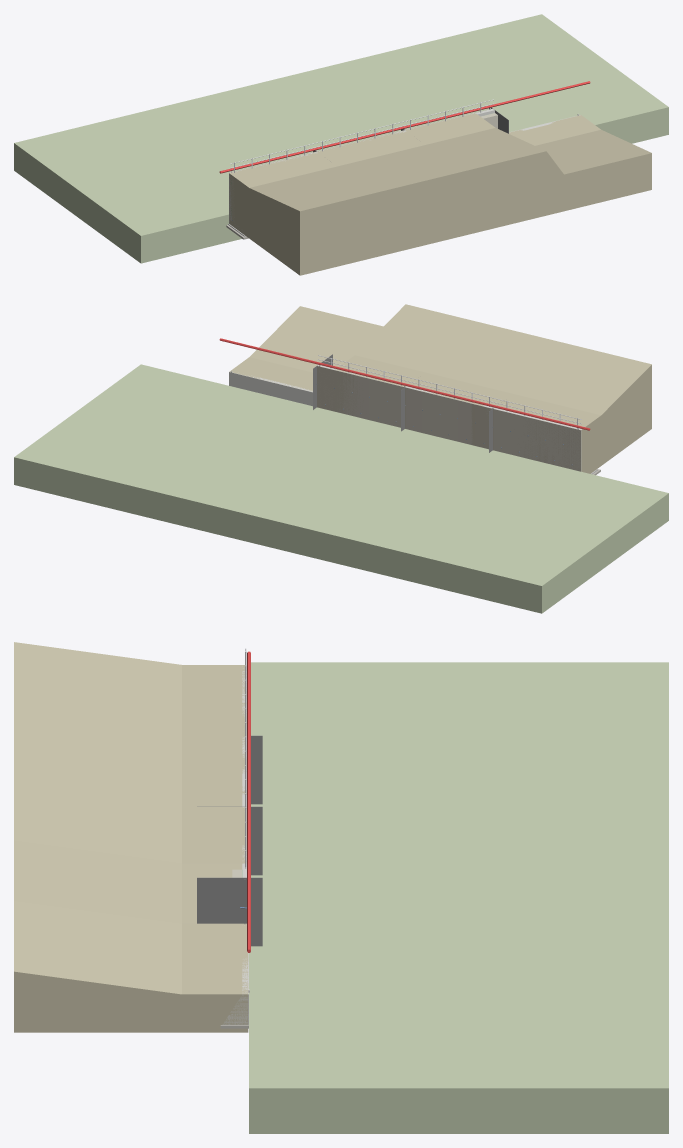
3 views of the same model, one above another, from view 1: azimuth 30°, elevation 25°; view 2: azimuth 150°, elevation 25°; view 3: azimuth 270°, elevation 25° (orthographic). The views are drawn at different scales.
Visible parts, largest first — view 1: 地形|前面地盤 (参考), 土工|背面盛土 (参考), 線形|擁壁法線 (前面線), 附属物|天端 防護柵 (支柱15本); view 2: 地形|前面地盤 (参考), 土工|背面盛土 (参考), 出来形|壁面 出来形 (実測: 天端の通り・倒れ, 記号), 本体|逆T式 たて壁 (H=5.0m, t=0.4〜0.5m, ブロック1), 本体|逆T式 たて壁 (H=5.0m, t=0.4〜0.5m, ブロック2), 本体|逆T式 たて壁 (H=5.0m, t=0.4〜0.5m, ブロック3), 本体|重力式擁壁 (H=2.0m, 天端0.4m, 背面1:0.6) L=10m, 線形|擁壁法線 (前面線), 附属物|天端 防護柵 (支柱15本); view 3: 地形|前面地盤 (参考), 土工|背面盛土 (参考), 目地|目地材 t=20mm・止水板 (No.30), 線形|擁壁法線 (前面線), 目地|目地材 t=20mm・止水板 (No.20), 目地|目地材 t=20mm・止水板 (No.10).
Part boxes in pixels (box(x1,y1,x2,y2)): 地形|前面地盤 (参考): box(14, 14, 668, 263); 土工|背面盛土 (参考): box(229, 113, 651, 275); 線形|擁壁法線 (前面線): box(219, 81, 590, 173); 附属物|天端 防護柵 (支柱15本): box(230, 99, 493, 172); 地形|前面地盤 (参考): box(14, 364, 668, 613); 土工|背面盛土 (参考): box(229, 304, 651, 473); 出来形|壁面 出来形 (実測: 天端の通り・倒れ, 記号): box(317, 366, 580, 471); 本体|逆T式 たて壁 (H=5.0m, t=0.4〜0.5m, ブロック1): box(493, 408, 581, 471); 本体|逆T式 たて壁 (H=5.0m, t=0.4〜0.5m, ブロック2): box(405, 386, 493, 448); 本体|逆T式 たて壁 (H=5.0m, t=0.4〜0.5m, ブロック3): box(317, 365, 403, 427); 本体|重力式擁壁 (H=2.0m, 天端0.4m, 背面1:0.6) L=10m: box(229, 372, 312, 406); 線形|擁壁法線 (前面線): box(219, 338, 590, 430); 附属物|天端 防護柵 (支柱15本): box(318, 355, 581, 428); 地形|前面地盤 (参考): box(249, 662, 668, 1133); 土工|背面盛土 (参考): box(14, 642, 248, 1032); 目地|目地材 t=20mm・止水板 (No.30): box(197, 877, 262, 946); 線形|擁壁法線 (前面線): box(247, 651, 250, 952); 目地|目地材 t=20mm・止水板 (No.20): box(197, 806, 262, 875); 目地|目地材 t=20mm・止水板 (No.10): box(251, 735, 262, 804).
Size of the model in its own units: 60 by 9 by 39.
